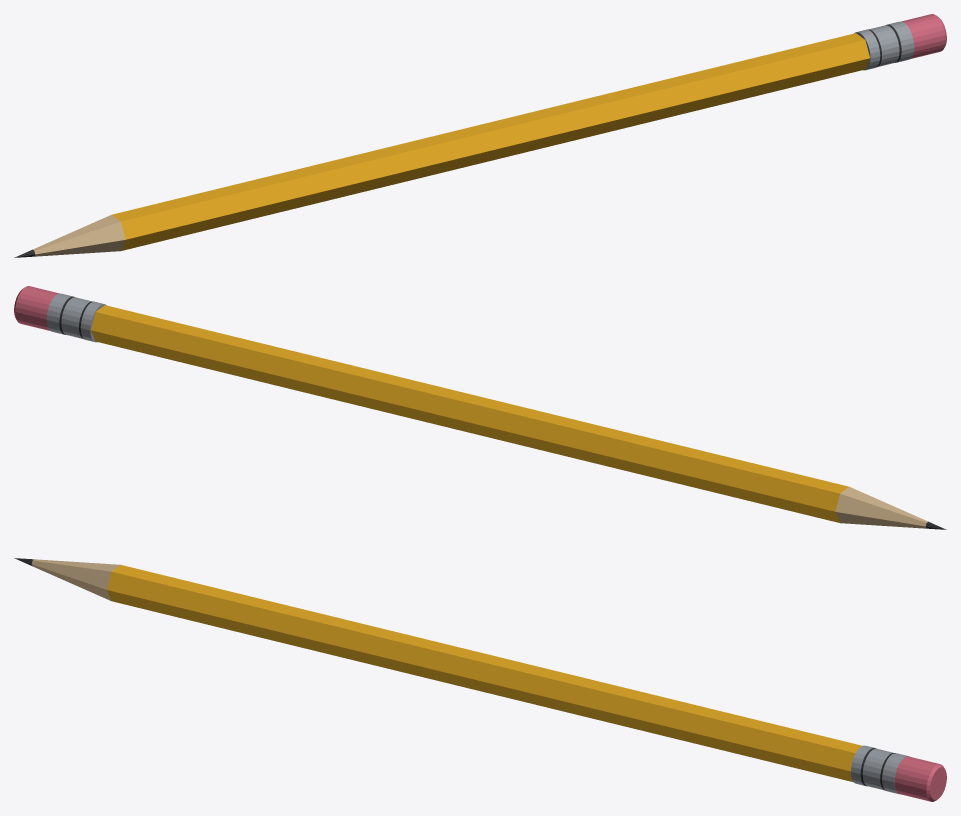
Rendered from pencil.glb.
3 views of the same model, one above another, from view 1: azimuth 30°, elevation 25°; view 2: azimuth 150°, elevation 25°; view 3: azimuth 330°, elevation 25° (orthographic).
Parts seen in each view (by area): view 1: Long hexagonal pencil; view 2: Long hexagonal pencil; view 3: Long hexagonal pencil.
Part boxes in pixels (x1=…): Long hexagonal pencil: x1=14, y1=14, x2=946, y2=257; Long hexagonal pencil: x1=14, y1=286, x2=946, y2=529; Long hexagonal pencil: x1=14, y1=558, x2=946, y2=801.
Bounding box in the file's own units: 0.19 × 0.007 × 0.007.
